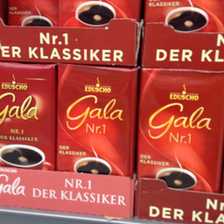coffee: (137, 66, 221, 192), (55, 62, 139, 178), (1, 62, 55, 169)
